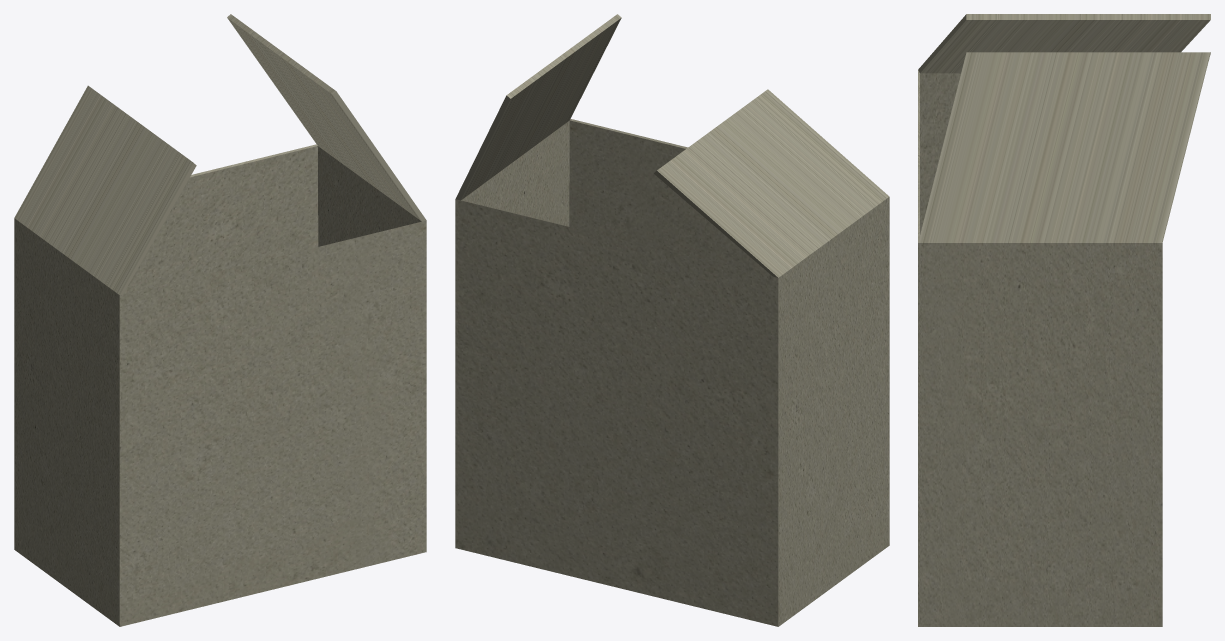
The model's file is boxbuka.fbx.
The picture shows the model from 3 angles, left to right: view 1: azimuth 30°, elevation 25°; view 2: azimuth 150°, elevation 25°; view 3: azimuth 270°, elevation 25°; orthographic projection. The views are drawn at different scales.
Visible parts, largest first — view 1: Cube.003; view 2: Cube.003; view 3: Cube.003.
Boxes of the visible parts, left/top/right/bottom form: Cube.003: left=14, top=14, right=426, bottom=626; Cube.003: left=455, top=14, right=889, bottom=626; Cube.003: left=918, top=14, right=1210, bottom=626.
Bounding box in the file's own units: 32.51 × 46.8 × 23.2.
